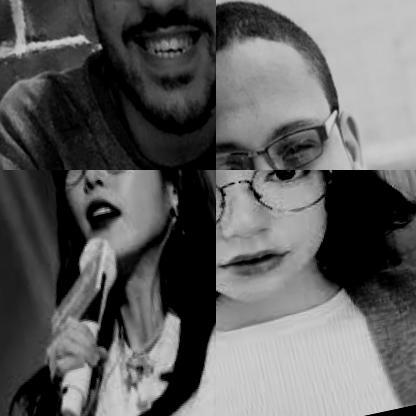glasses: (216, 170, 373, 252), (216, 90, 360, 169), (23, 170, 184, 202)
hands: (26, 302, 120, 386)
mouth: (72, 191, 132, 237)
